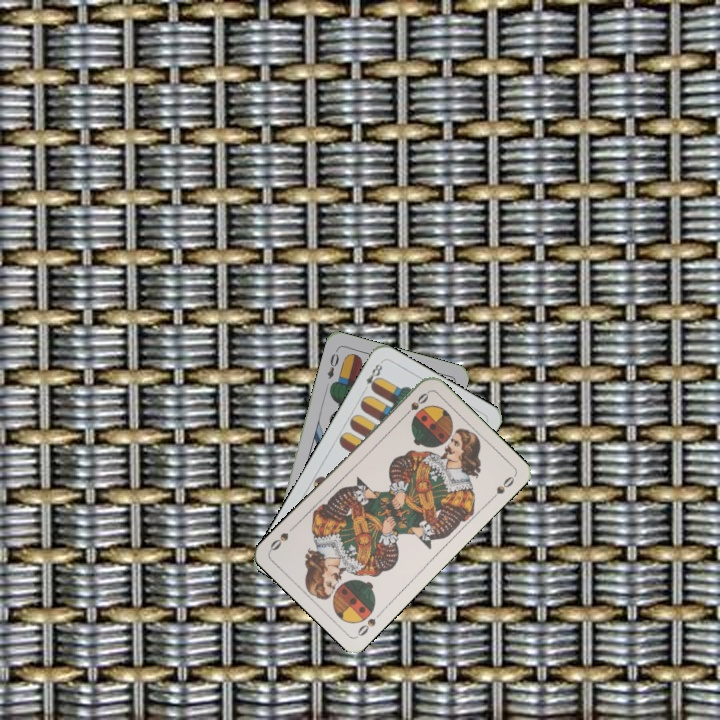E8: (359, 358, 385, 394)
EO: (323, 346, 342, 381)
SO: (399, 388, 431, 420), (353, 607, 385, 639)
